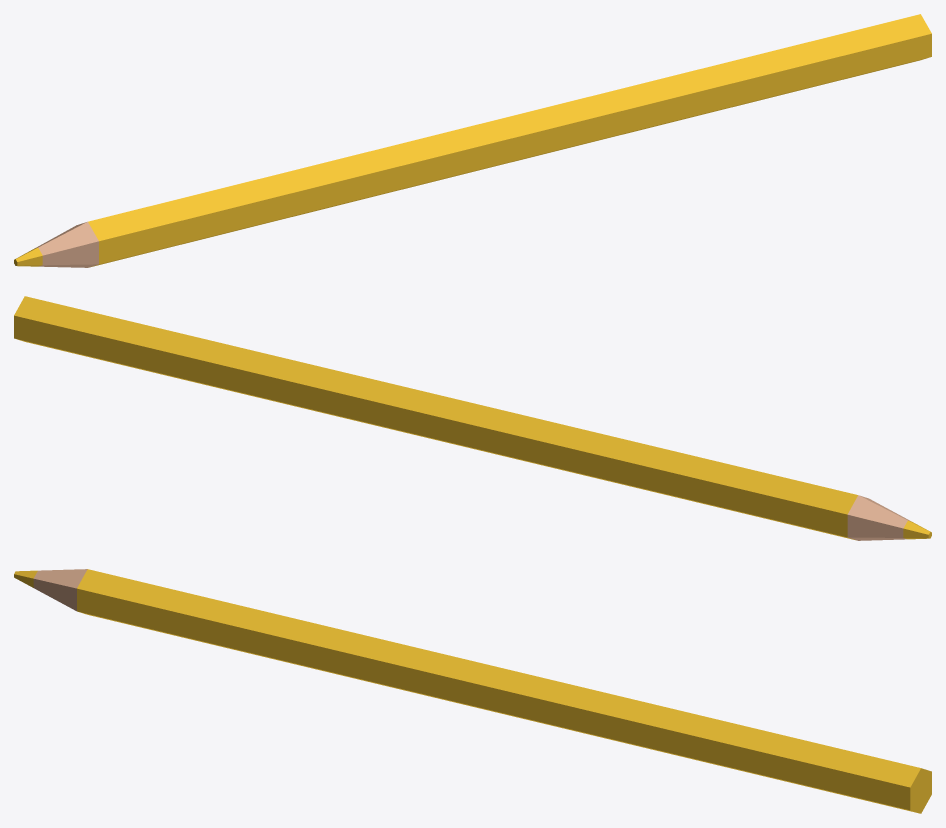
The model's file is lapis_realista.glb.
3 renders of one model, top to bottom at view 1: azimuth 30°, elevation 25°; view 2: azimuth 150°, elevation 25°; view 3: azimuth 330°, elevation 25°, orthographic.
Parts seen in each view (by area): view 1: Cylinder; view 2: Cylinder; view 3: Cylinder.
Part boxes in pixels (<box>): Cylinder: <box>14,14,931,267</box>; Cylinder: <box>14,296,931,540</box>; Cylinder: <box>14,569,931,813</box>.
Bounding box in the file's own units: 0.1696 × 0.00823 × 0.00858.
